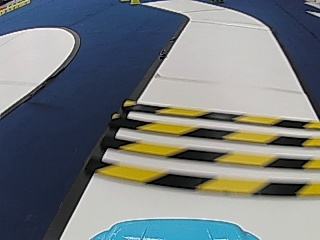bump: (131, 108, 304, 189)
